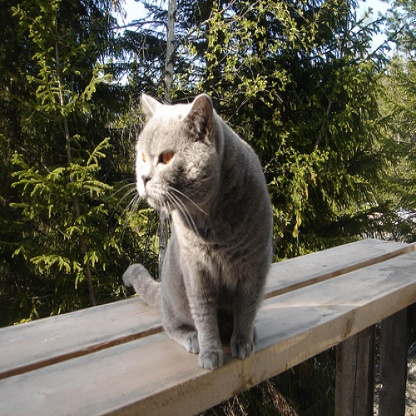british_shorthair: (121, 95, 274, 368)
